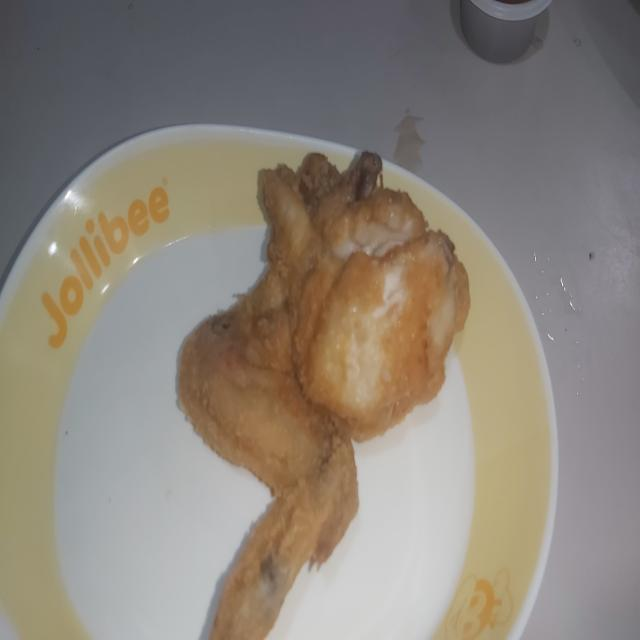Chicken -Fried Chicken-: (172, 142, 476, 638)
